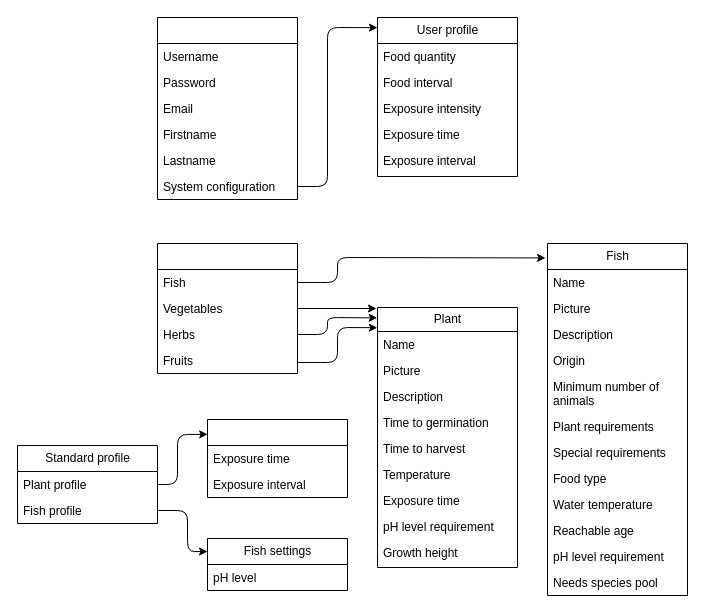
Image size: 705x616. Some labels were removed from this diagram. Here are the shapes that lost their labels. From the top down, the box of each, then its label:
(156, 16, 298, 200): User account
(156, 242, 298, 374): Glossary
(206, 418, 348, 498): Plant settings
